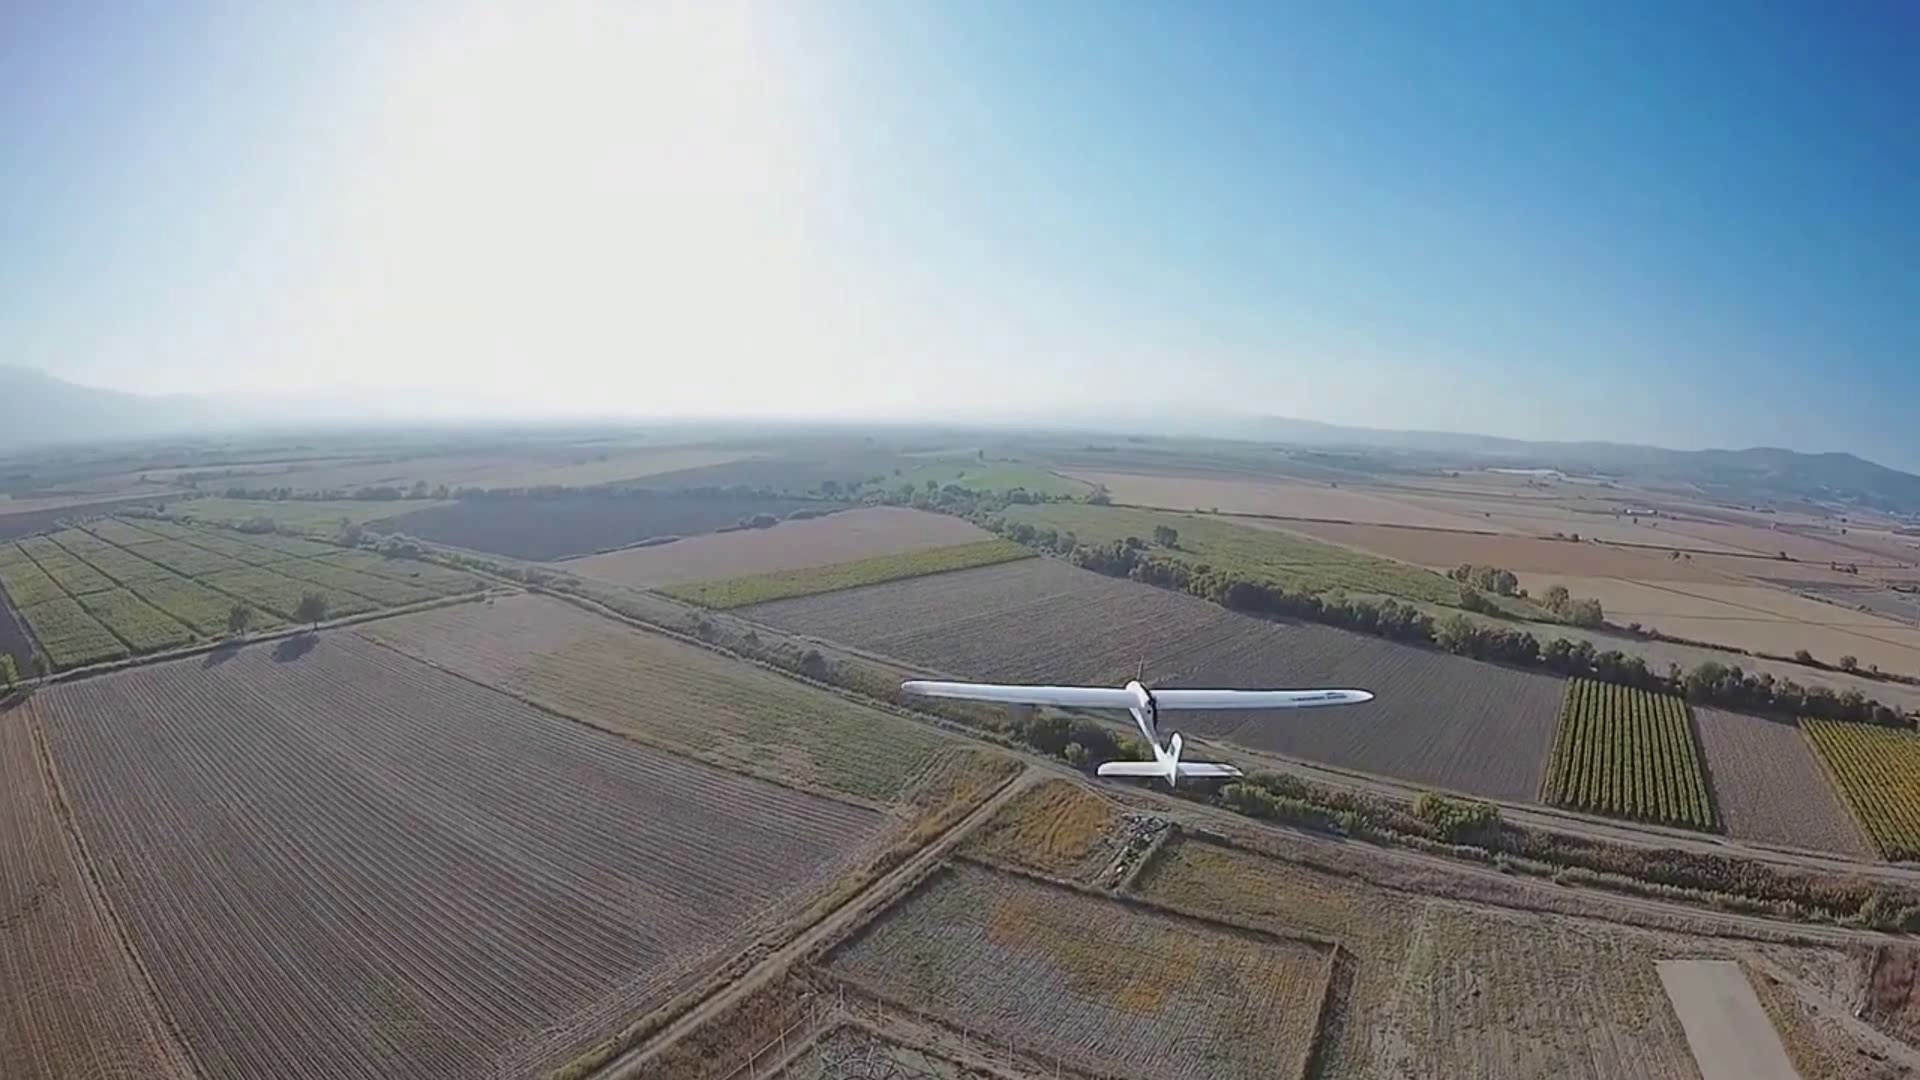airplane: (885, 668, 1373, 795)
